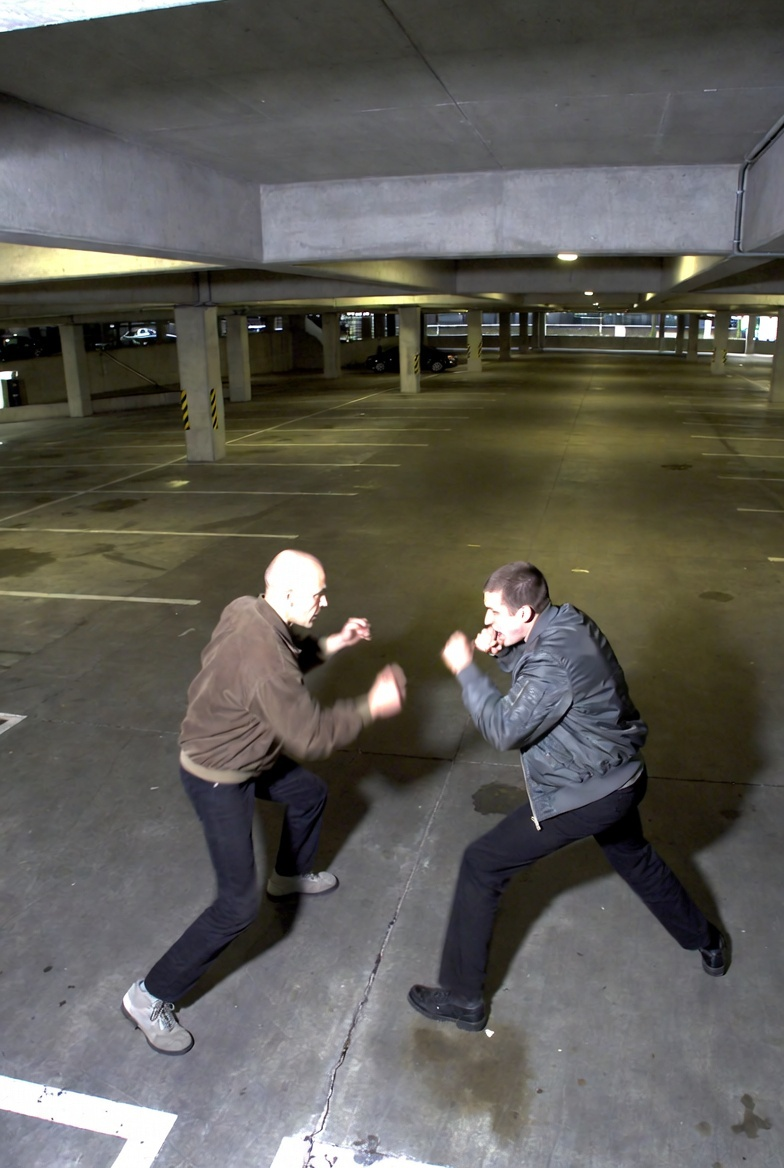Assault: (119, 547, 405, 1056)
Fighting: (406, 561, 734, 1033)
